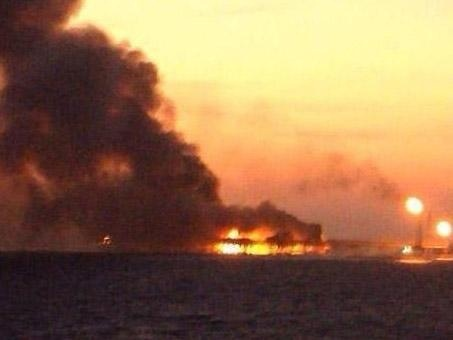fire: (209, 223, 330, 256)
